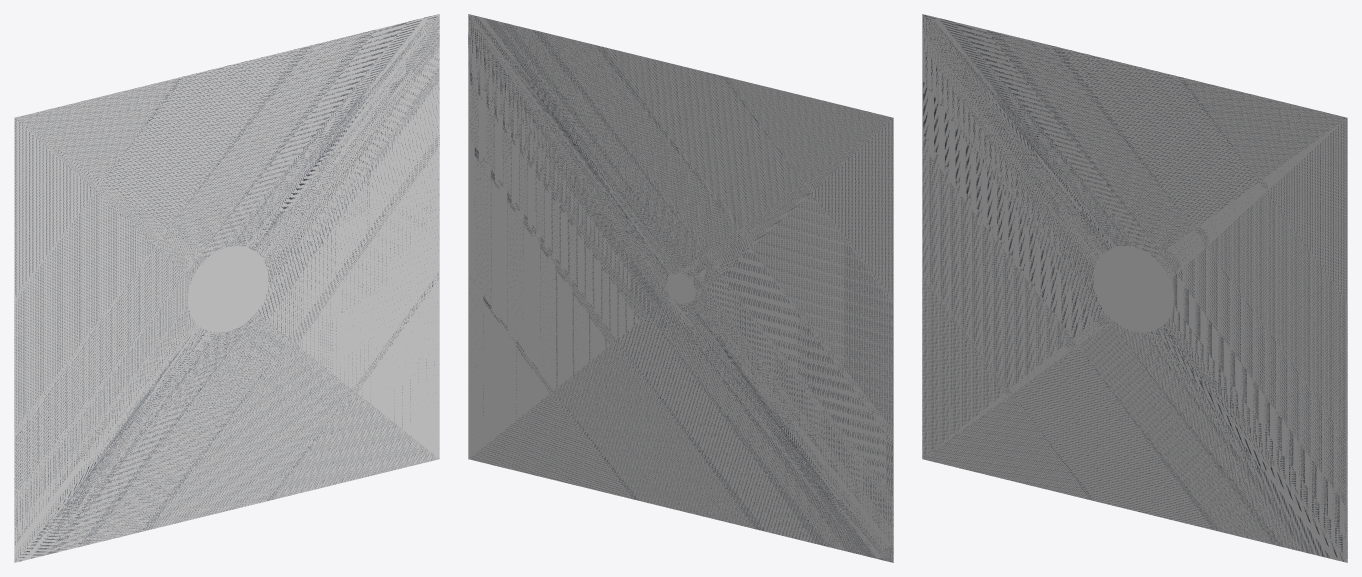
Rendered from board.dae.
The picture shows the model from 3 angles, left to right: view 1: azimuth 30°, elevation 25°; view 2: azimuth 150°, elevation 25°; view 3: azimuth 330°, elevation 25°; orthographic projection.
Parts seen in each view (by area): view 1: mesh1/mesh1-geometry/material_1#mesh1-geometry.001, mesh2/mesh2-geometry/material_1#mesh2-geometry.001; view 2: mesh1/mesh1-geometry/material_1#mesh1-geometry.001, mesh2/mesh2-geometry/material_1#mesh2-geometry.001; view 3: mesh1/mesh1-geometry/material_1#mesh1-geometry.001, mesh2/mesh2-geometry/material_1#mesh2-geometry.001.
Part boxes in pixels (box(x1,y1,x2,y2)): mesh1/mesh1-geometry/material_1#mesh1-geometry.001: box(14, 14, 439, 562); mesh2/mesh2-geometry/material_1#mesh2-geometry.001: box(187, 245, 268, 332); mesh1/mesh1-geometry/material_1#mesh1-geometry.001: box(468, 14, 893, 562); mesh2/mesh2-geometry/material_1#mesh2-geometry.001: box(666, 272, 695, 304); mesh1/mesh1-geometry/material_1#mesh1-geometry.001: box(922, 14, 1347, 562); mesh2/mesh2-geometry/material_1#mesh2-geometry.001: box(1093, 245, 1174, 332).
Size of the model in its own units: 0.8303 by 0.00371 by 0.8303.
Materials: 3 (1 with a texture image).
